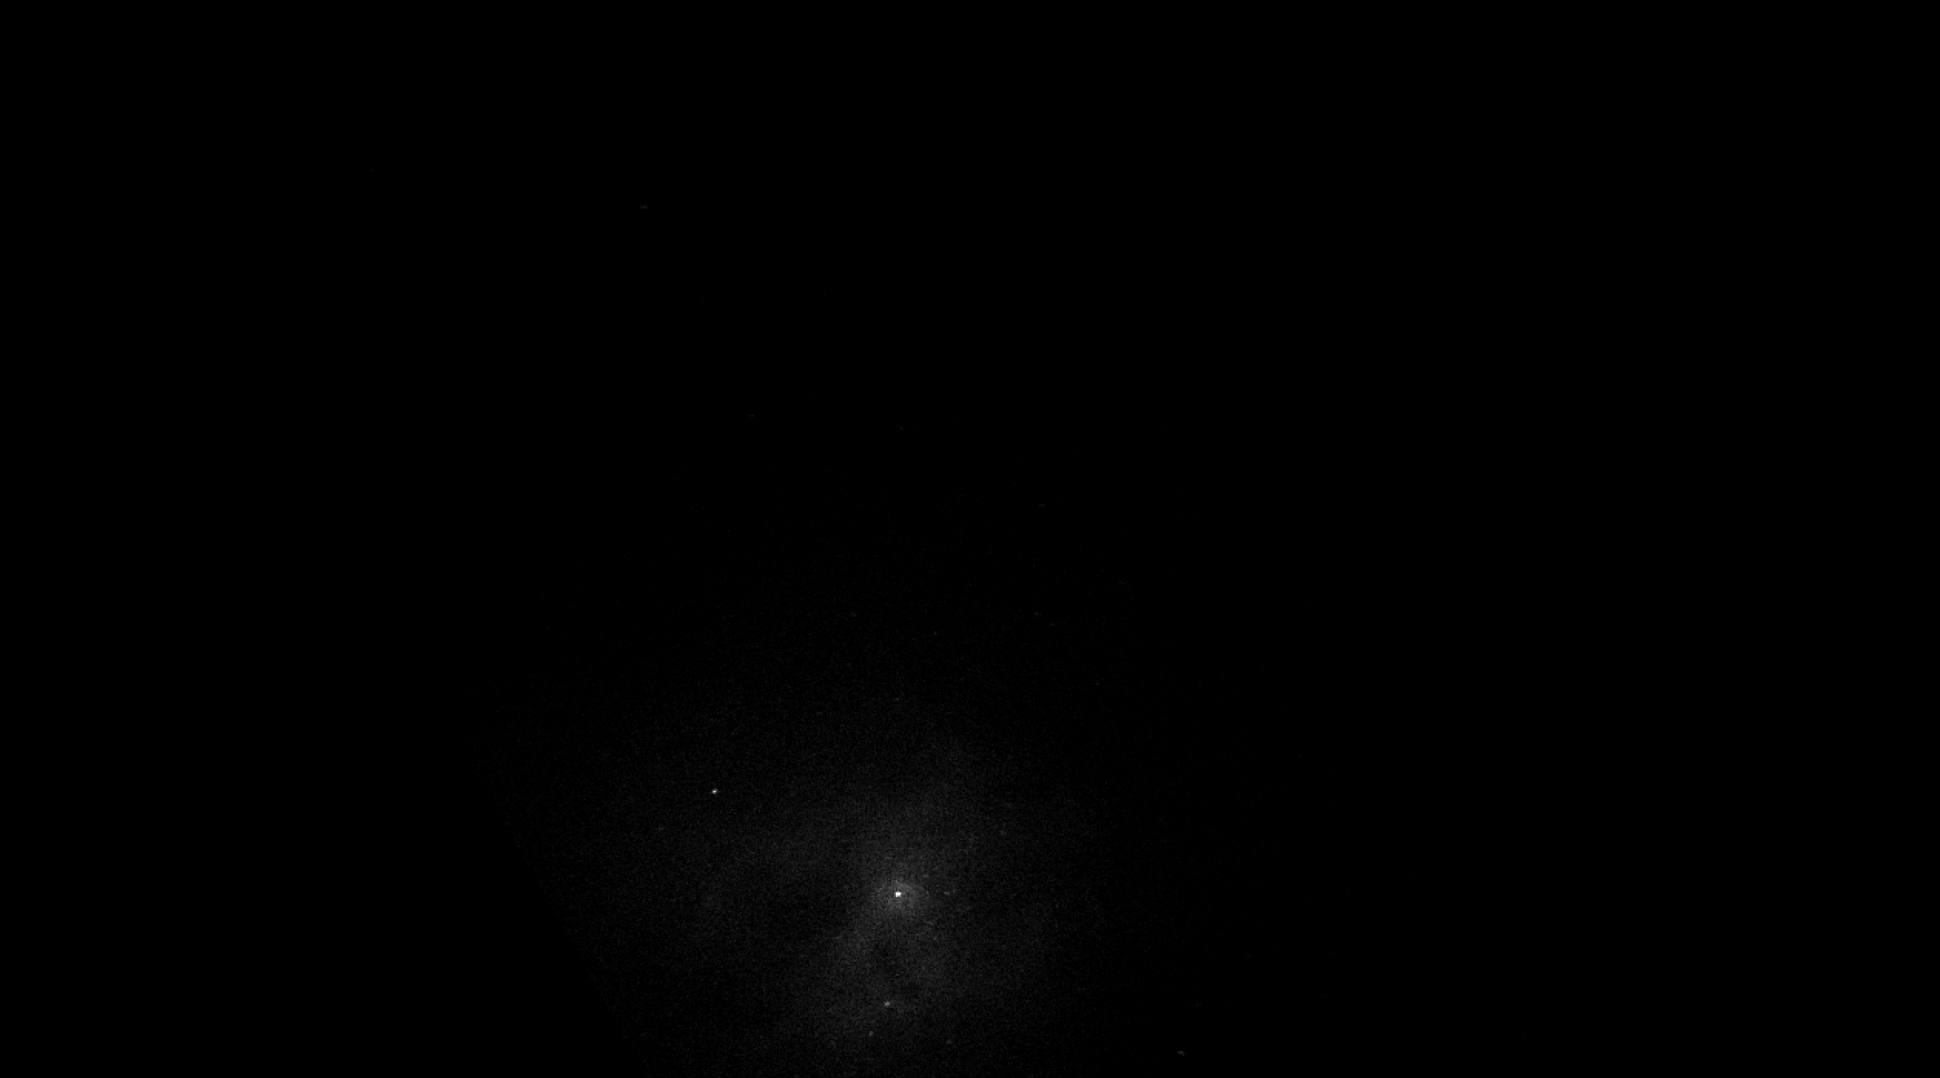Cavity: (778, 854, 866, 943), (866, 940, 922, 1002), (901, 889, 913, 913)
Galaxy: (657, 702, 1087, 1070)
